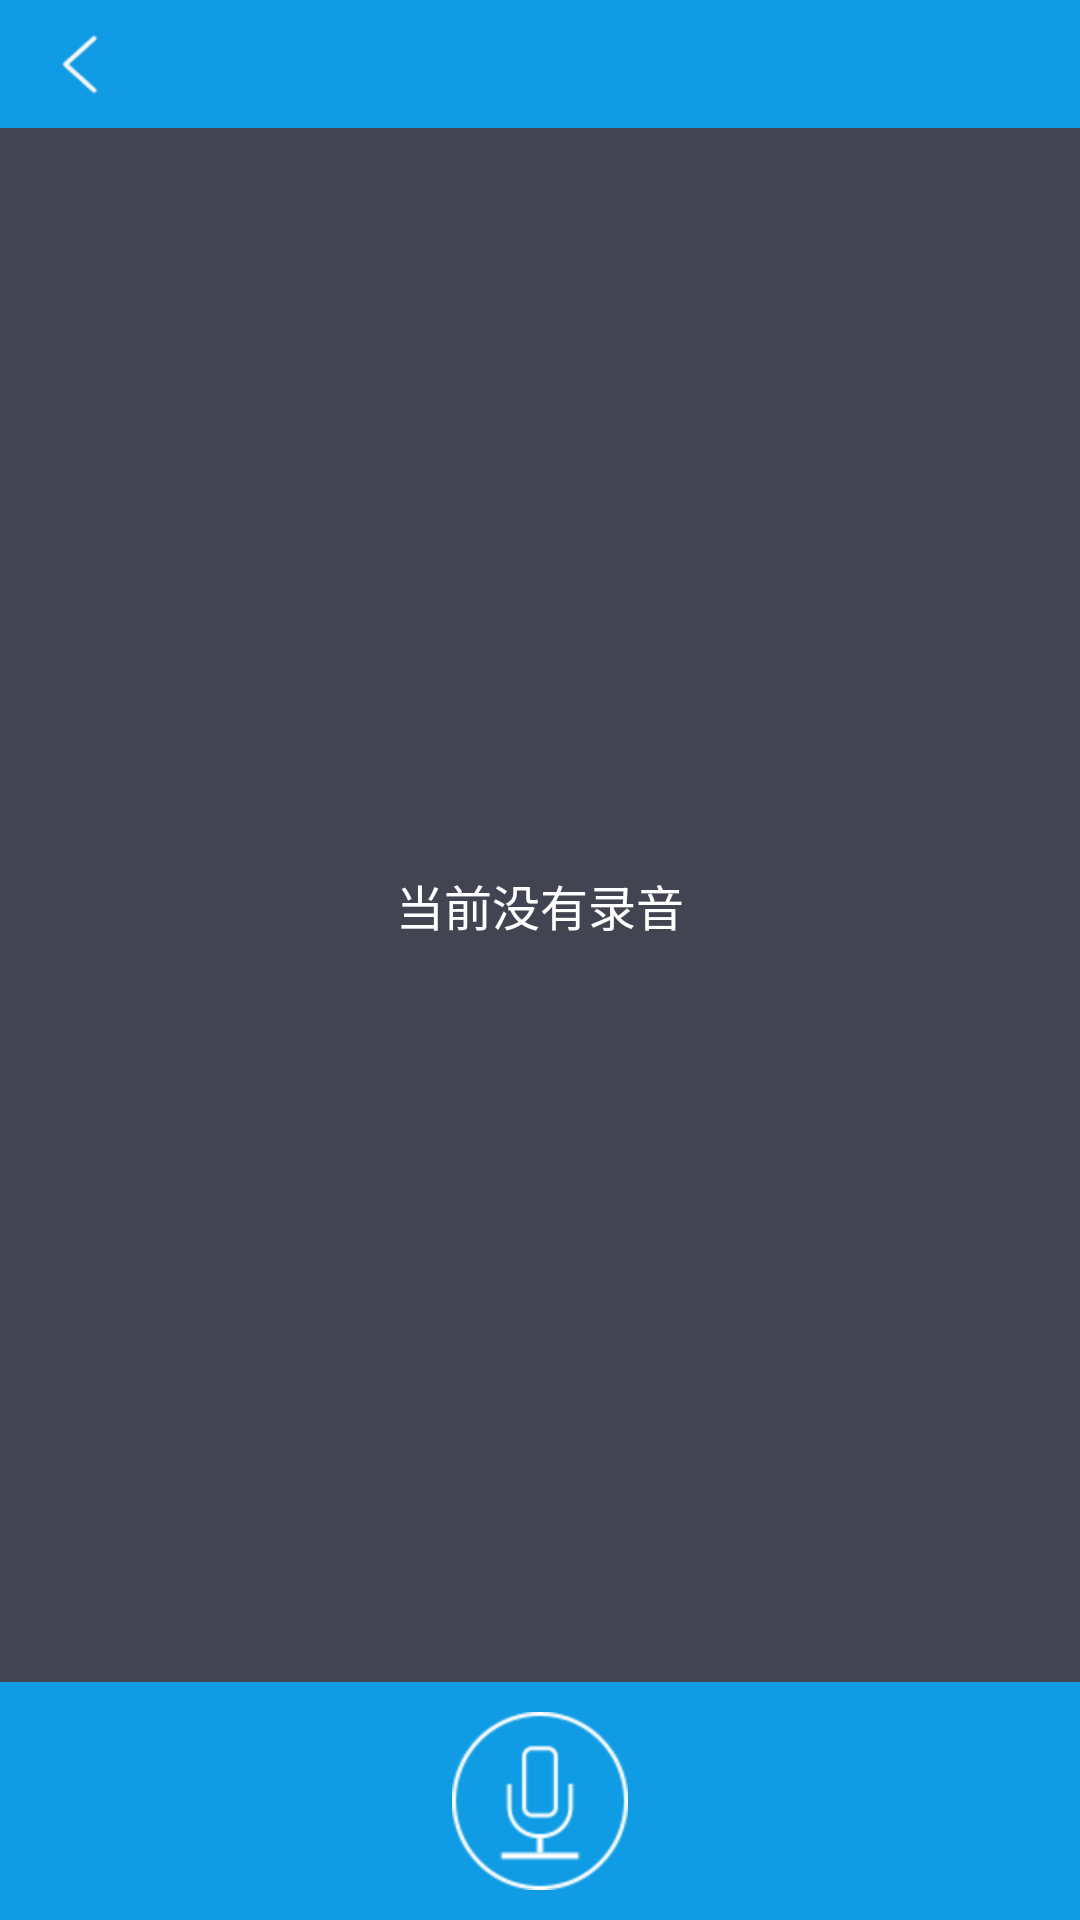

Icon bounding boxes for this 1080 x 1920 phone screenshot, format (left=x1, top=y1, right=x2, bottom=y2):
back: (left=62, top=35, right=98, bottom=94)
